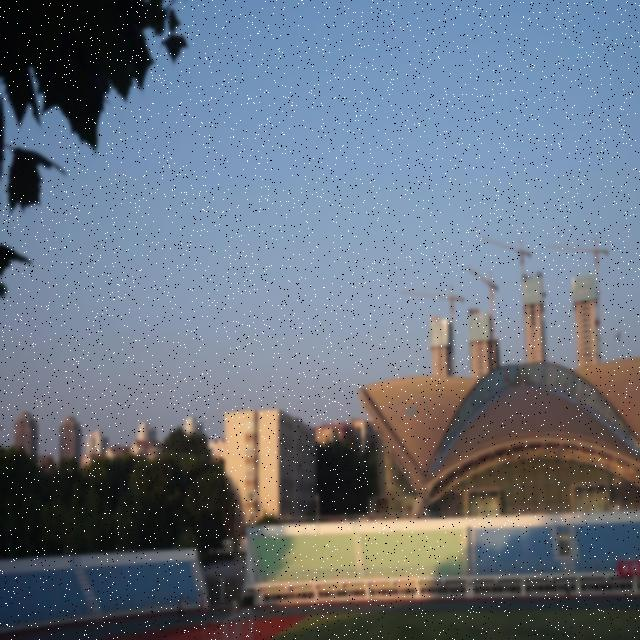UAV: (614, 331, 621, 340)
